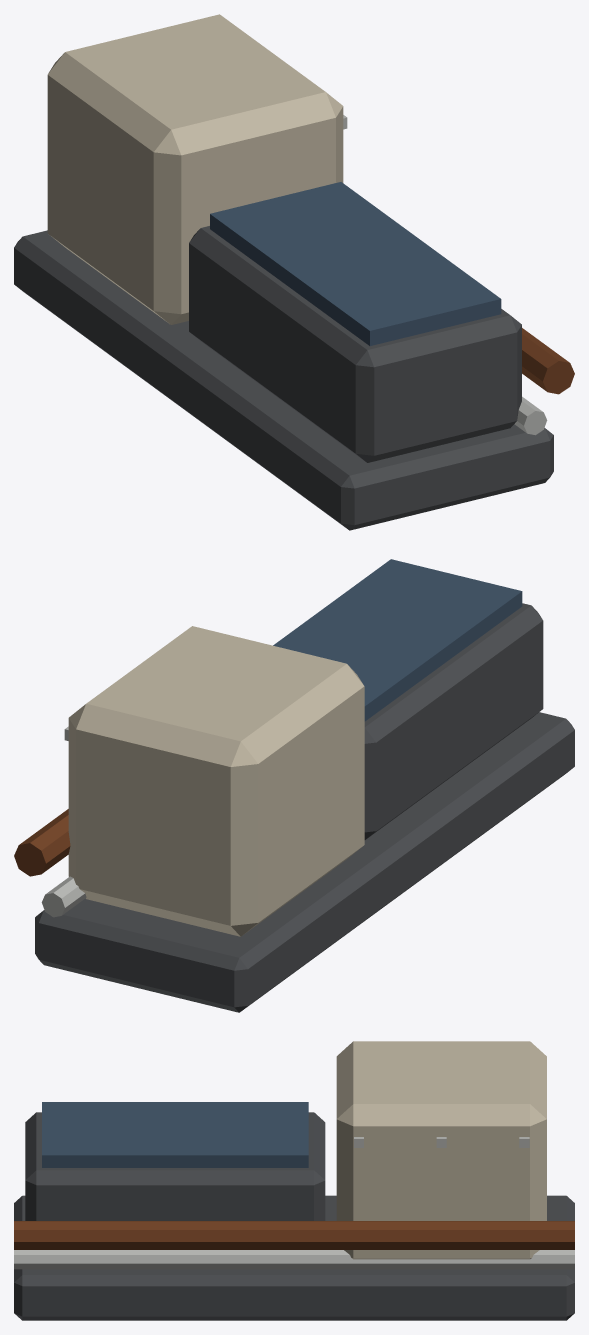
The model's file is cargo-bay-wall-e.glb.
3 views of the same model, one above another, from view 1: azimuth 30°, elevation 25°; view 2: azimuth 150°, elevation 25°; view 3: azimuth 270°, elevation 25° (orthographic). The views are drawn at different scales.
Visible parts, largest first — view 1: body; view 2: body; view 3: body.
Part boxes in pixels (x1,y1,x2,y2): body: [14, 14, 574, 530]; body: [14, 559, 574, 1012]; body: [14, 1041, 574, 1320].
Size of the model in its own units: 0.785 by 0.82 by 2.
